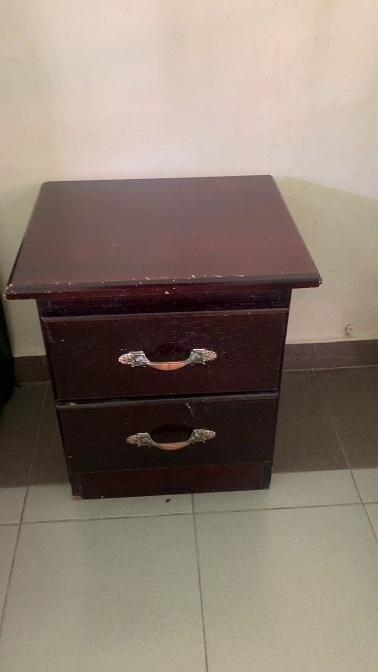cabinet_door: (54, 311, 280, 394), (66, 402, 275, 475)
handle: (117, 342, 220, 377), (127, 424, 218, 462)
